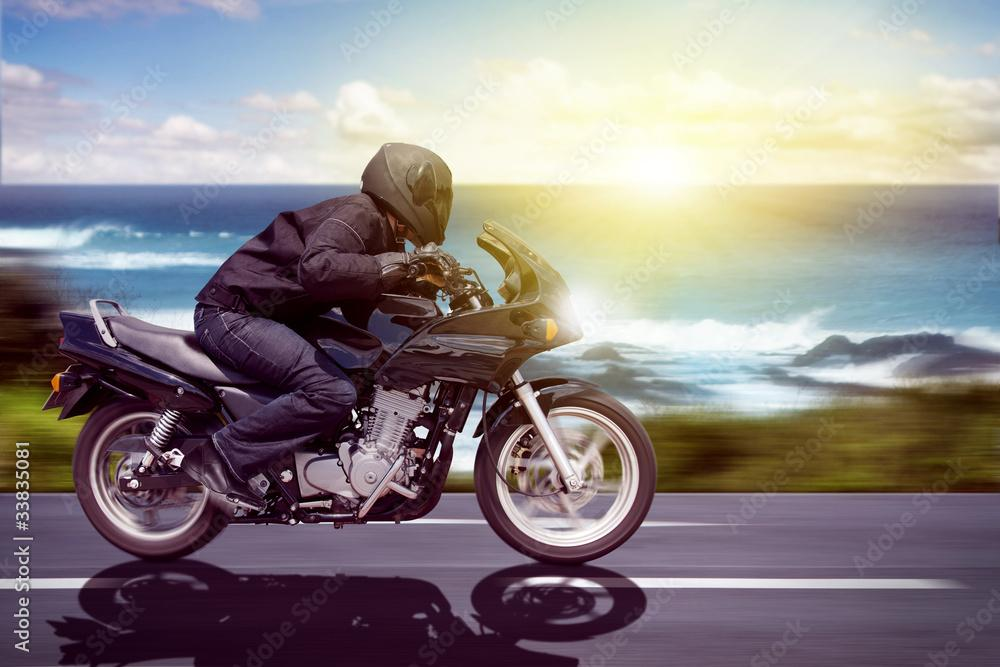helmet: (360, 141, 454, 252)
